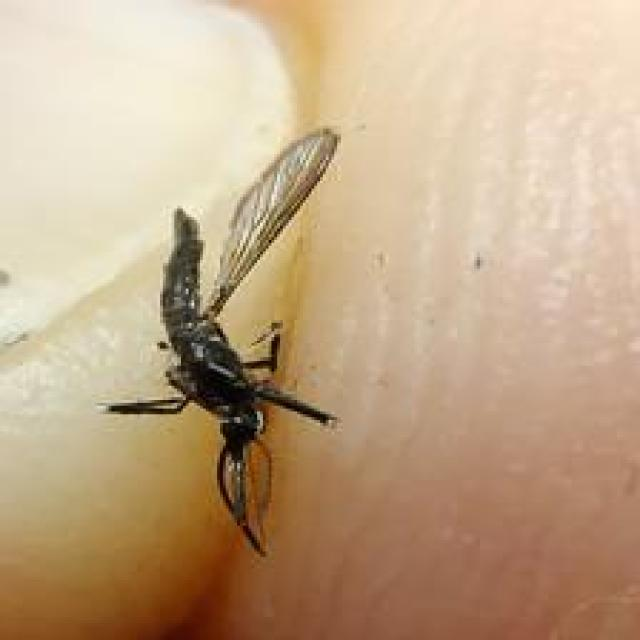Aedes albopictus: (97, 123, 343, 557)
